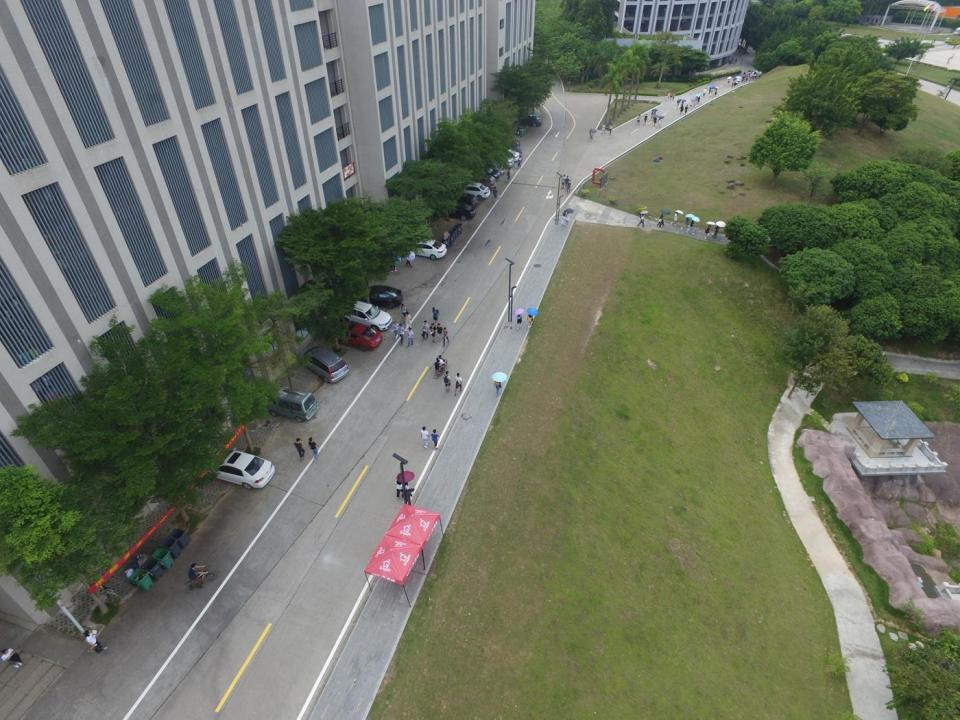car: (200, 447, 275, 490), (298, 344, 350, 384), (321, 319, 382, 351), (336, 299, 392, 331), (355, 285, 403, 308), (405, 238, 447, 259), (436, 200, 476, 220), (458, 182, 491, 200), (450, 193, 479, 209), (472, 174, 496, 190), (475, 166, 501, 180), (516, 113, 542, 127), (484, 160, 505, 176), (498, 148, 520, 162), (495, 155, 514, 167)
van: (265, 386, 319, 422)
